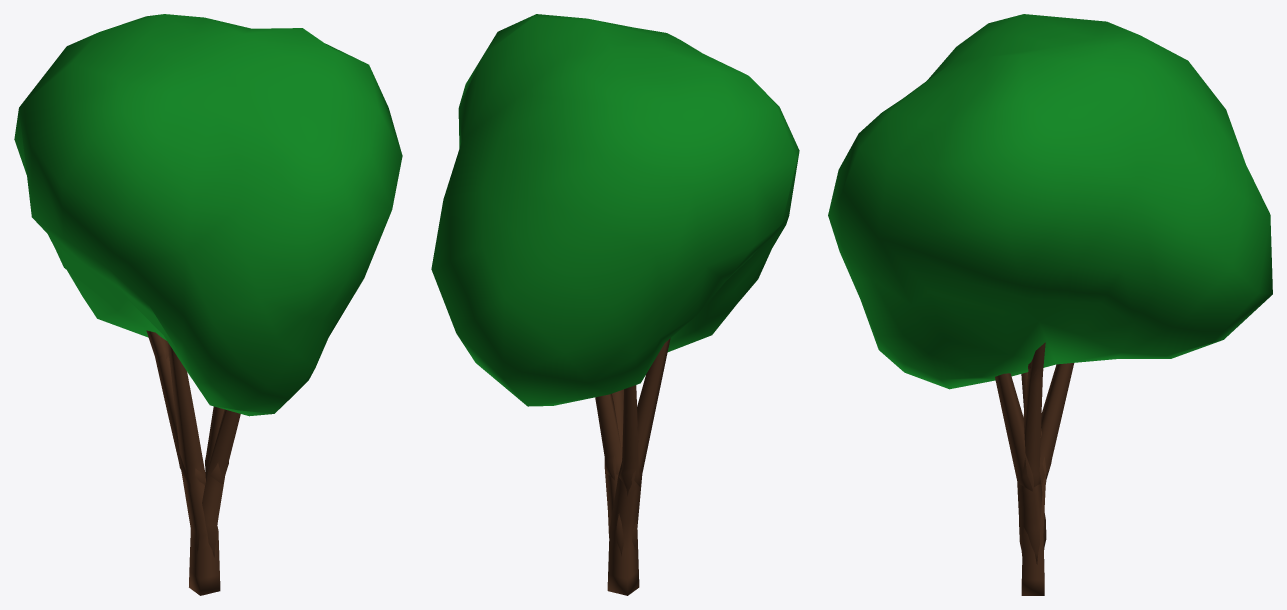
The model's file is arbre1_new.gltf.
3 renders of one model, left to right at view 1: azimuth 30°, elevation 25°; view 2: azimuth 150°, elevation 25°; view 3: azimuth 270°, elevation 25°, orthographic.
Parts seen in each view (by area): view 1: rock.002, treemesh.001; view 2: rock.002, treemesh.001; view 3: rock.002, treemesh.001.
Part boxes in pixels (x1,y1,x2,y2): rock.002: (14, 14, 402, 416); treemesh.001: (146, 330, 240, 595); rock.002: (431, 14, 799, 406); treemesh.001: (595, 338, 670, 595); rock.002: (828, 14, 1272, 389); treemesh.001: (995, 342, 1074, 595).
Bounding box in the file's own units: 6.76 × 10.87 × 7.94.
